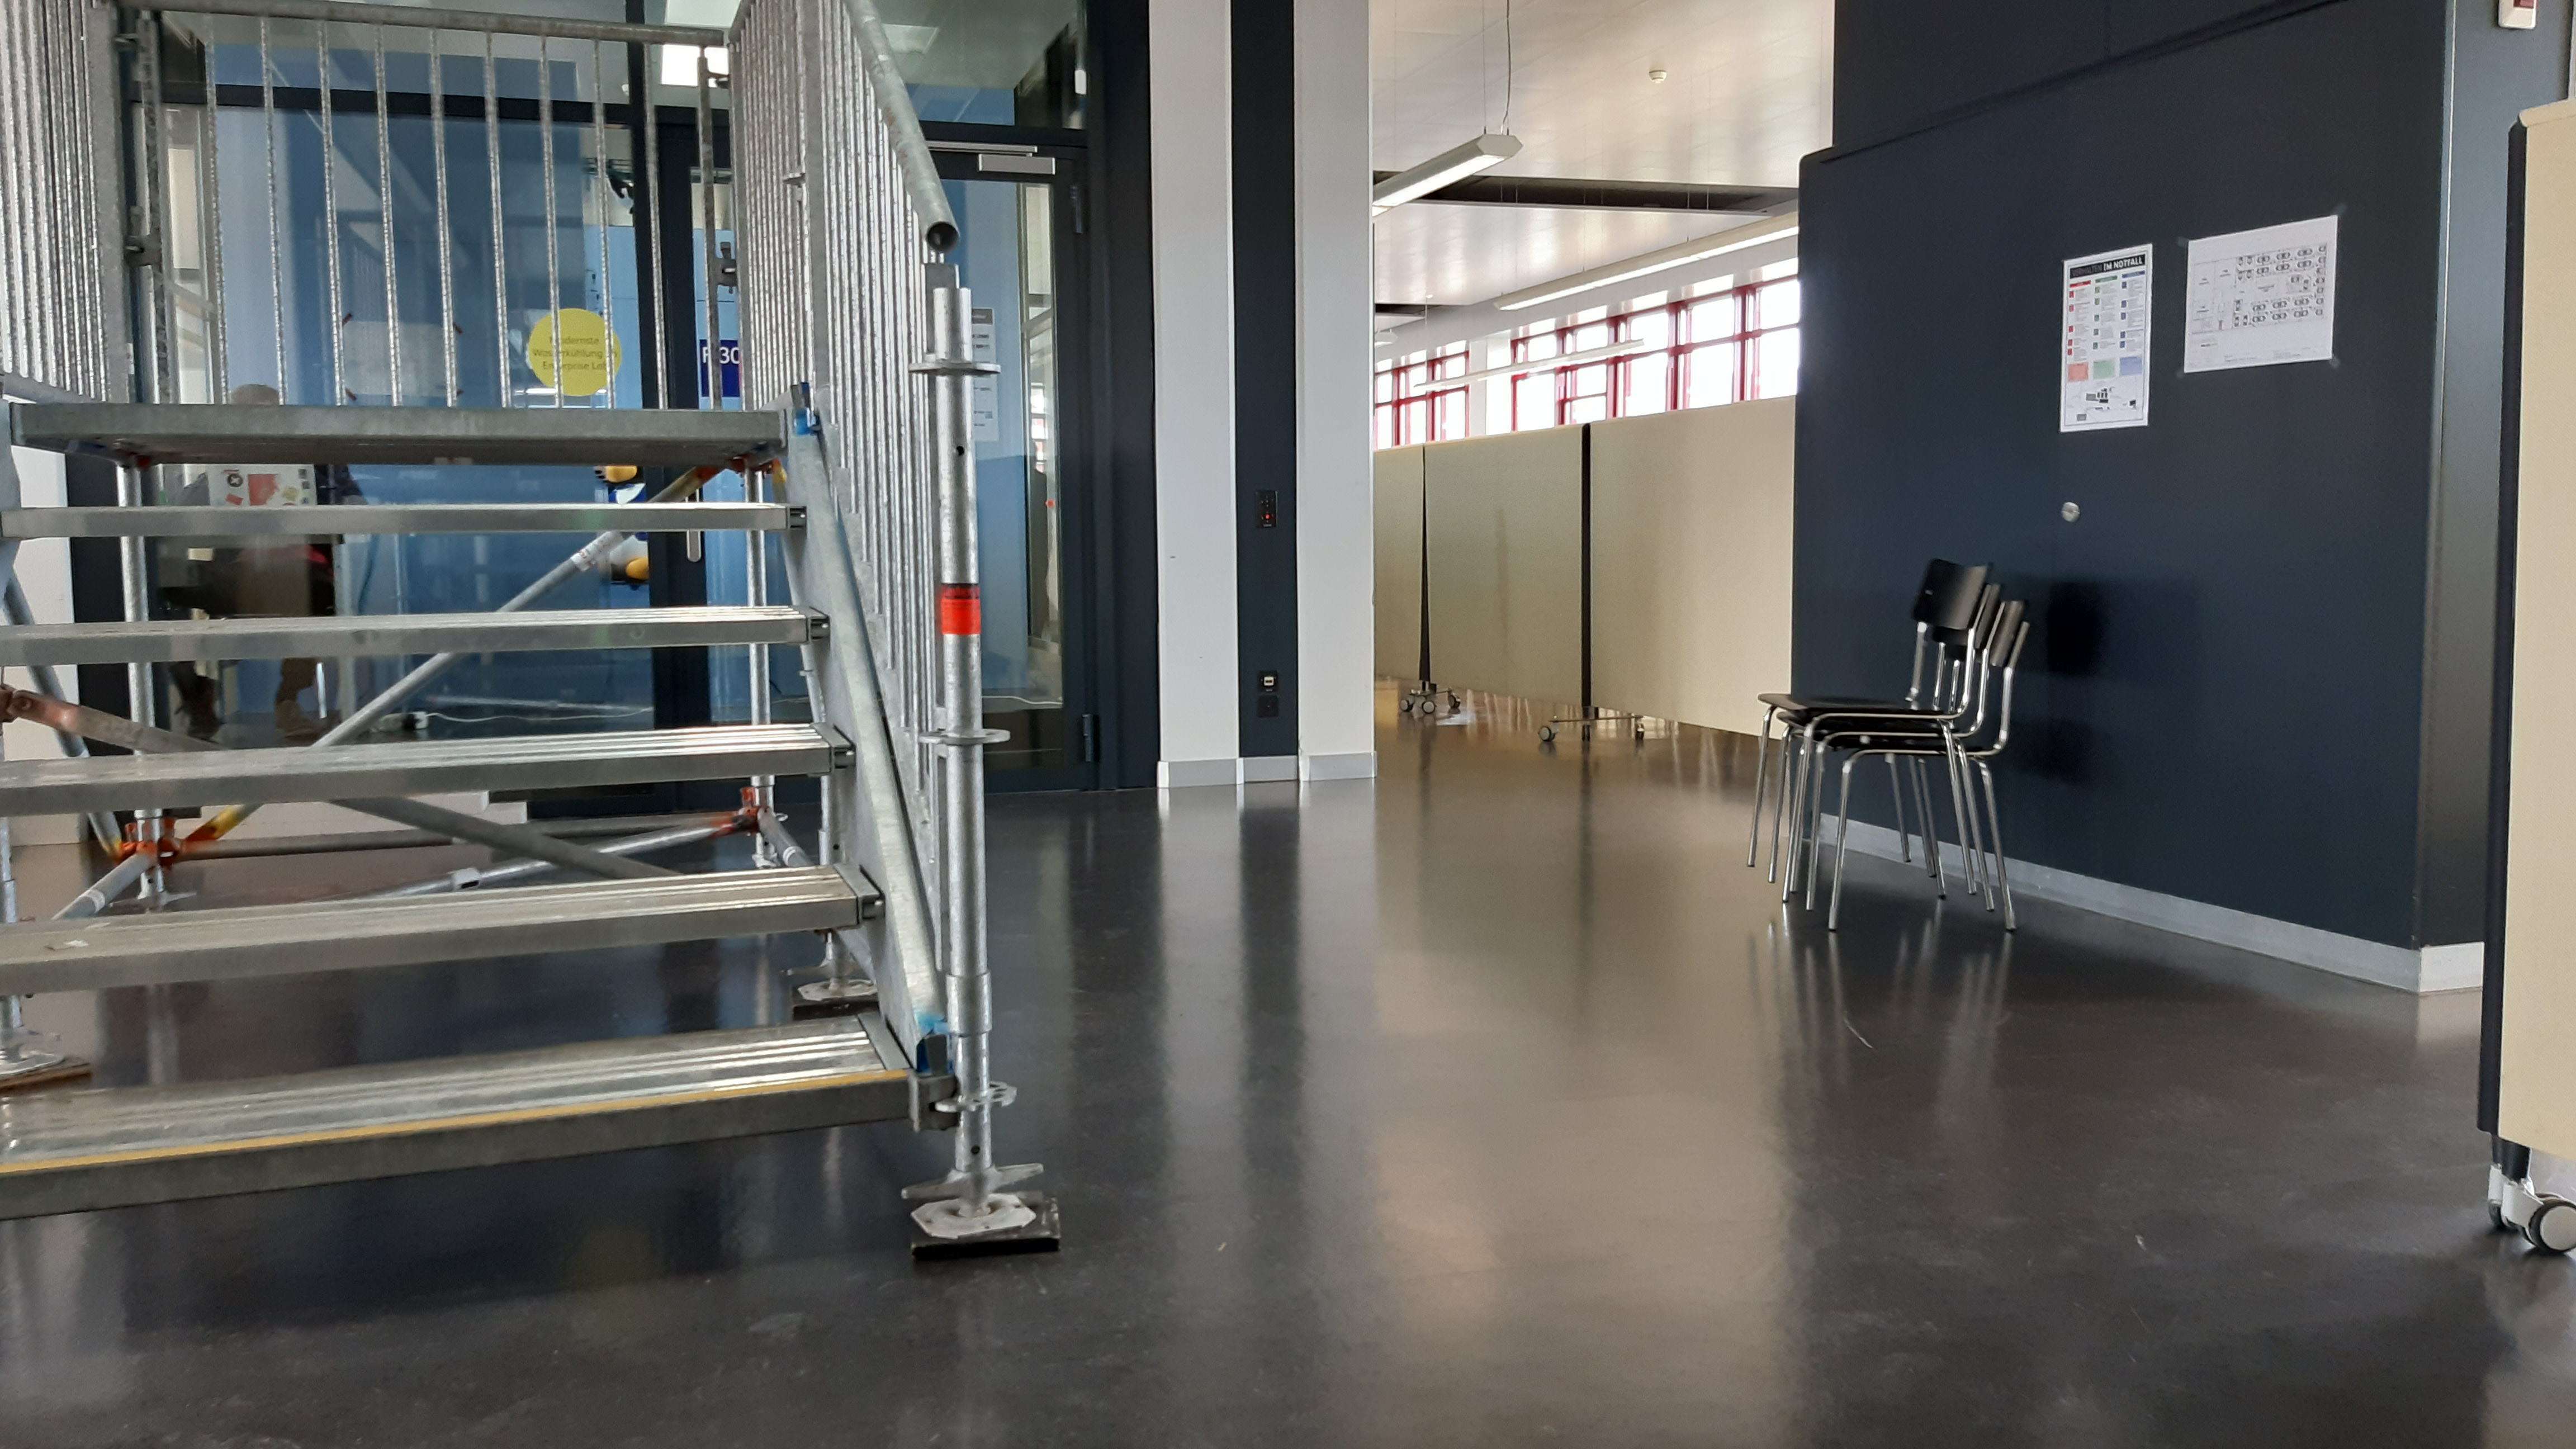edge: (11, 1069, 904, 1219), (5, 892, 881, 991), (5, 741, 853, 812), (5, 612, 832, 665), (9, 501, 807, 534), (9, 407, 786, 435)
stairs: (0, 5, 1060, 1274)
steps: (4, 400, 916, 1219)
